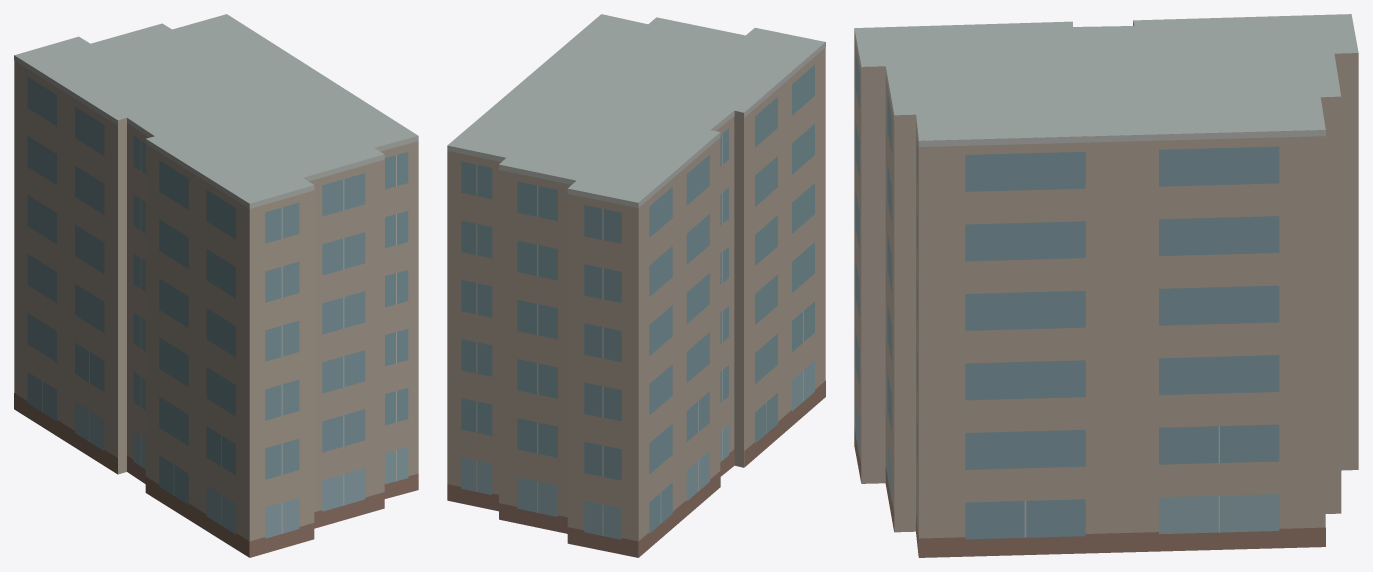
File: survey-upis-32698610.glb
The picture shows the model from 3 angles, left to right: view 1: azimuth 30°, elevation 25°; view 2: azimuth 150°, elevation 25°; view 3: azimuth 270°, elevation 25°; orthographic projection. The views are drawn at different scales.
Parts seen in each view (by area): view 1: survey-upis-32698610.tmp; view 2: survey-upis-32698610.tmp; view 3: survey-upis-32698610.tmp.
Boxes of the visible parts, x1,y1,x2,y2 form: survey-upis-32698610.tmp: (14, 14, 418, 557); survey-upis-32698610.tmp: (447, 14, 825, 557); survey-upis-32698610.tmp: (854, 14, 1358, 557).
Size of the model in its own units: 10.71 by 16.4 by 17.99.
